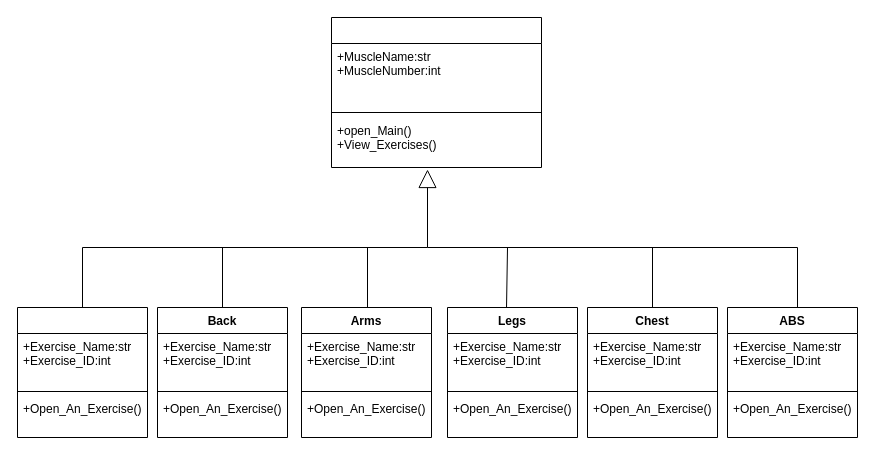
Some shapes in this 875 by 458 pixel diagram are drawn without their labels. Here are the shapes that lost their labels. From the top down, the box of each, then its label:
(330, 16, 542, 168): Muscles
(16, 306, 148, 438): Shoulder
